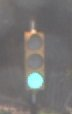Green: (22, 21, 47, 94)
